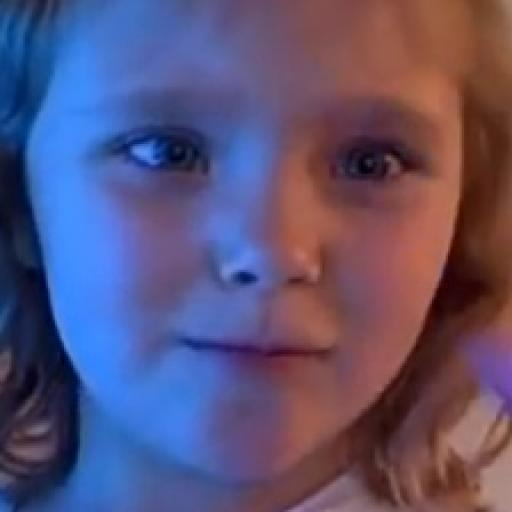Autism: (30, 0, 491, 469)
